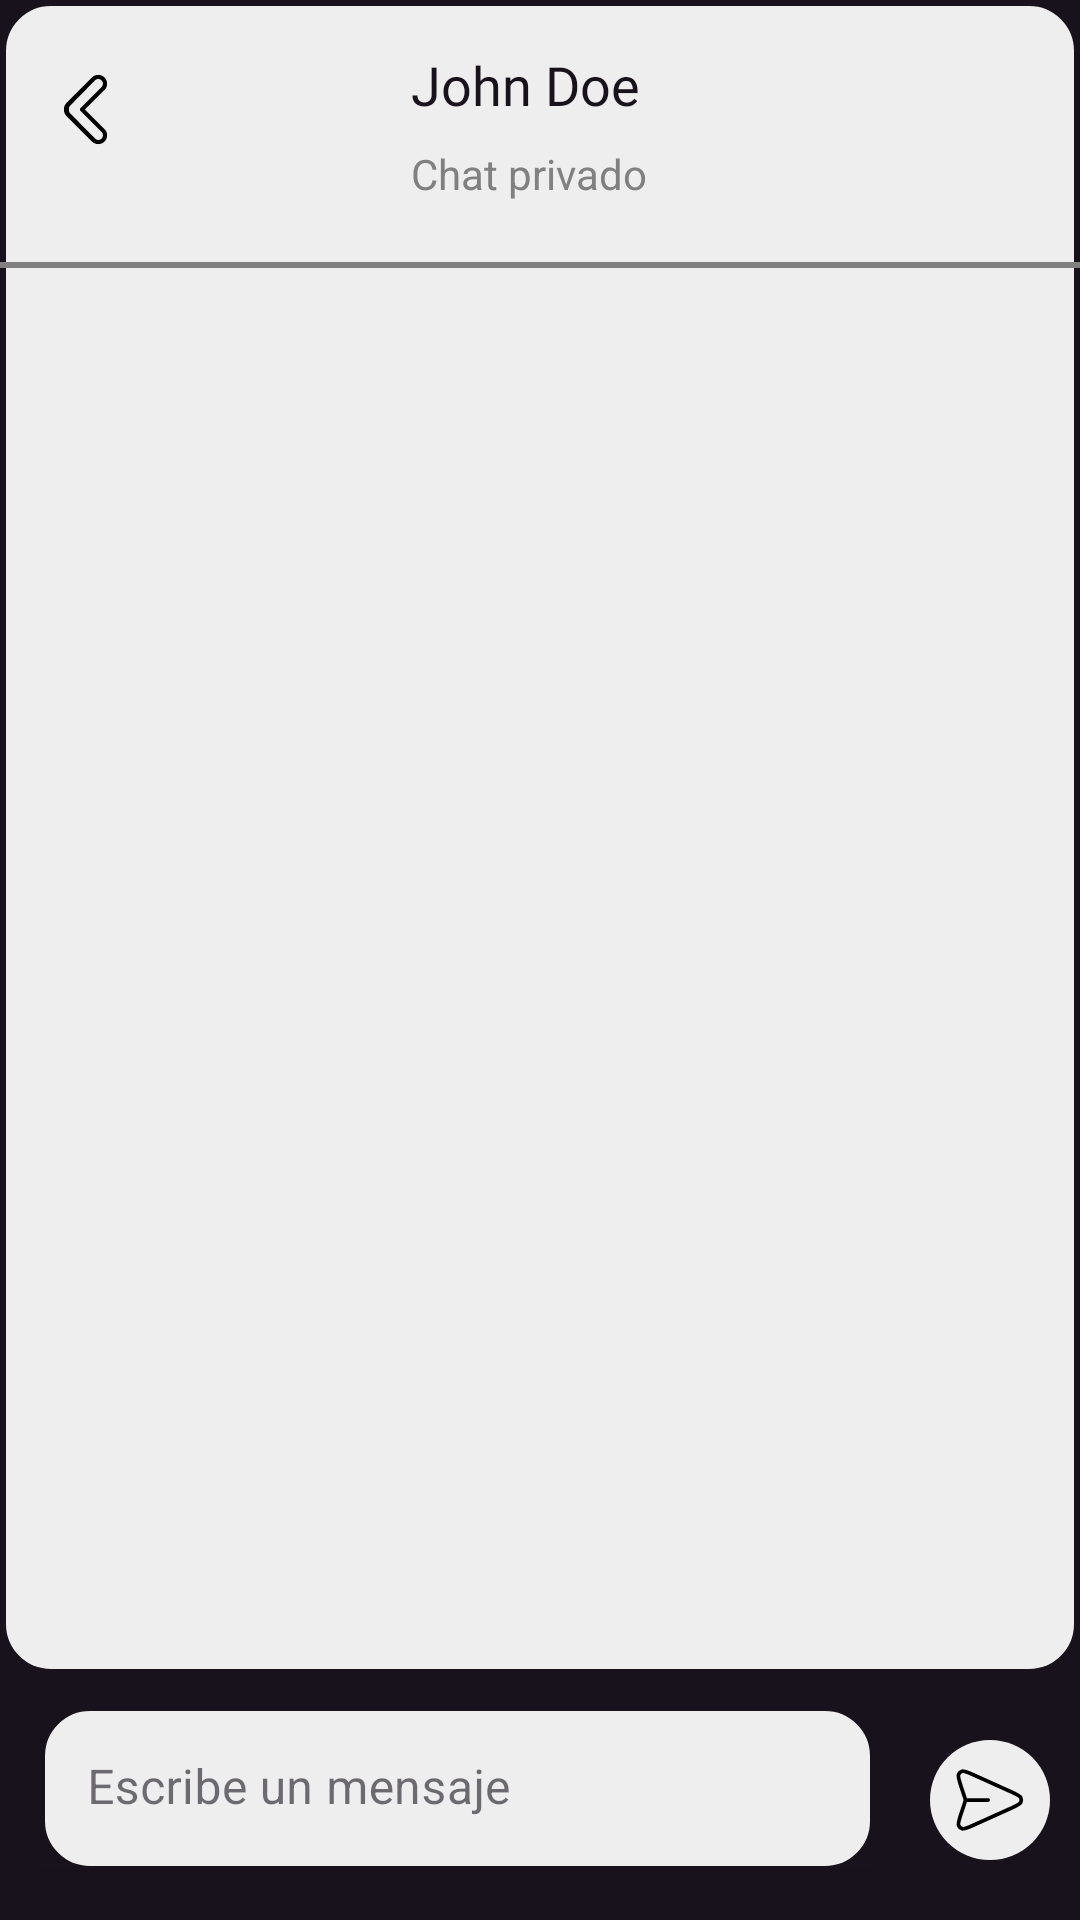

Named icons in this screenshot (1080w x 1920h) and their centers, [x,y]:
send: [990,1800]
